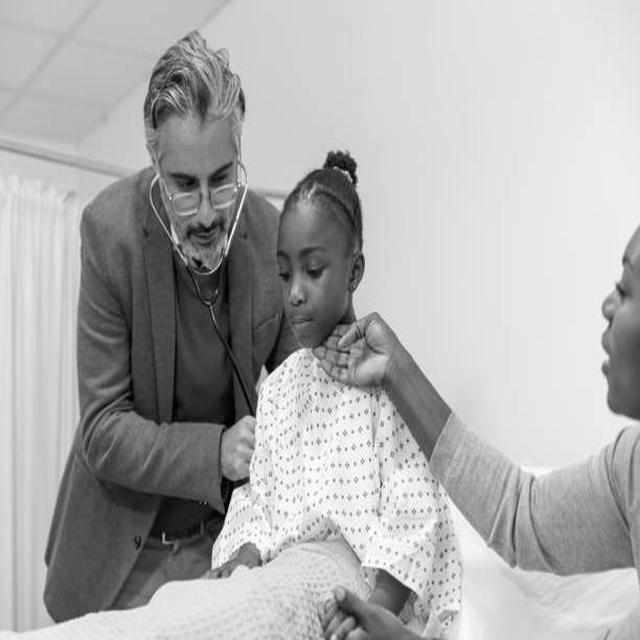Fear: (277, 212, 336, 348)
